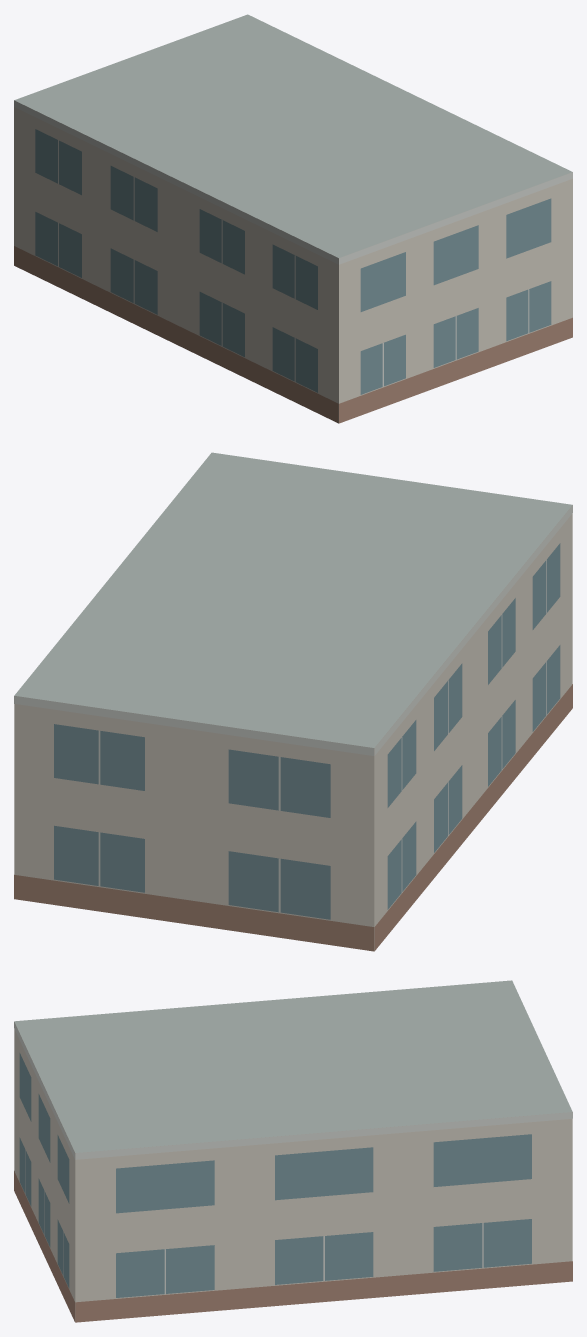
The model's file is survey-upis-32704827.glb.
3 views of the same model, one above another, from view 1: azimuth 30°, elevation 25°; view 2: azimuth 150°, elevation 25°; view 3: azimuth 270°, elevation 25° (orthographic). The views are drawn at different scales.
Visible parts, largest first — view 1: survey-upis-32704827.tmp; view 2: survey-upis-32704827.tmp; view 3: survey-upis-32704827.tmp.
Boxes of the visible parts, x1,y1,x2,y2 form: survey-upis-32704827.tmp: (14, 14, 572, 423); survey-upis-32704827.tmp: (14, 452, 572, 951); survey-upis-32704827.tmp: (14, 980, 572, 1322).
Size of the model in its own units: 13.35 by 6.1 by 18.24.
